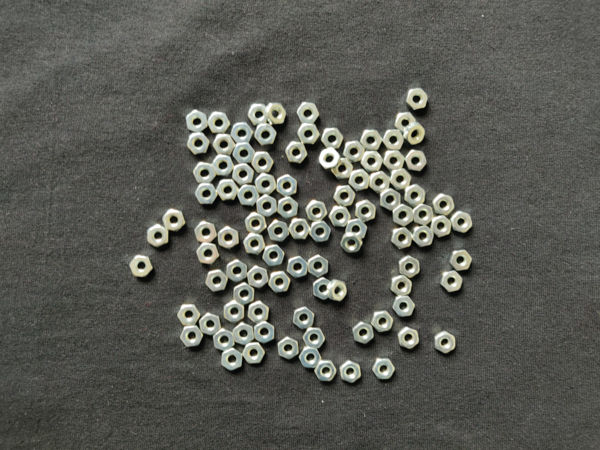nut: (129, 255, 154, 278), (162, 209, 186, 232), (187, 132, 210, 156), (243, 233, 266, 257), (398, 255, 421, 279), (177, 304, 200, 327), (205, 270, 228, 293), (196, 243, 219, 266), (268, 271, 291, 294), (285, 141, 308, 164), (343, 140, 366, 163), (193, 162, 217, 184), (233, 322, 255, 346), (247, 265, 269, 289), (405, 149, 427, 173), (180, 326, 203, 348), (186, 110, 208, 133), (195, 183, 218, 205), (213, 328, 235, 351), (221, 348, 243, 371), (212, 154, 234, 177), (213, 134, 236, 156), (208, 112, 231, 134), (245, 212, 267, 235), (233, 142, 256, 164), (255, 173, 277, 196), (251, 152, 274, 174), (255, 123, 277, 146), (287, 256, 309, 279), (293, 307, 315, 330), (299, 347, 322, 369), (340, 360, 362, 383), (297, 123, 320, 145), (319, 148, 341, 171), (321, 127, 344, 149), (331, 158, 354, 180), (349, 169, 371, 192), (371, 311, 394, 333), (372, 358, 395, 380), (440, 271, 463, 293), (392, 227, 414, 250), (360, 129, 383, 151), (361, 151, 384, 173), (433, 193, 455, 216), (451, 211, 474, 233), (218, 226, 239, 250), (277, 174, 298, 198), (278, 336, 299, 360), (353, 321, 374, 345), (199, 313, 221, 335), (232, 164, 254, 186), (263, 245, 285, 267), (277, 197, 299, 219), (315, 360, 337, 382), (289, 218, 311, 240), (309, 221, 331, 243), (306, 200, 328, 222), (329, 206, 351, 228), (398, 327, 420, 349), (390, 275, 412, 297), (383, 129, 405, 151), (395, 112, 417, 134), (147, 224, 168, 247), (216, 180, 239, 201), (227, 260, 248, 283), (234, 283, 255, 306), (243, 343, 266, 364), (248, 301, 269, 324), (254, 321, 275, 344), (231, 122, 254, 143), (268, 220, 289, 243), (308, 255, 329, 278), (303, 328, 326, 349), (333, 186, 356, 207), (355, 200, 376, 223), (435, 331, 456, 354), (393, 296, 416, 317), (450, 250, 473, 271), (393, 204, 414, 227), (404, 122, 425, 145), (383, 150, 406, 171), (405, 184, 426, 207), (413, 204, 434, 227), (431, 215, 452, 238), (195, 222, 217, 243), (238, 185, 260, 206), (266, 103, 287, 125), (297, 102, 319, 123), (407, 88, 428, 110), (391, 168, 412, 190), (224, 300, 244, 323), (257, 195, 277, 218), (340, 233, 363, 253), (370, 171, 390, 194), (413, 226, 434, 247), (327, 280, 347, 302), (346, 219, 368, 239), (381, 189, 401, 211), (248, 104, 267, 126), (314, 278, 330, 301)
